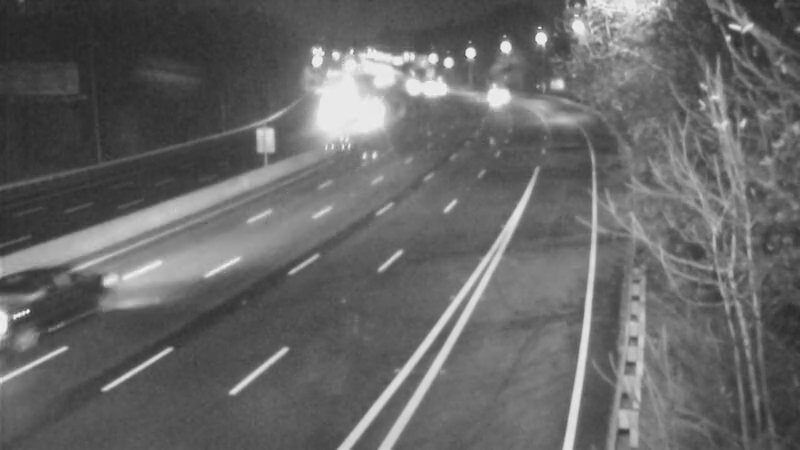vehicle: (1, 252, 100, 362), (470, 63, 520, 113), (340, 85, 390, 135)
